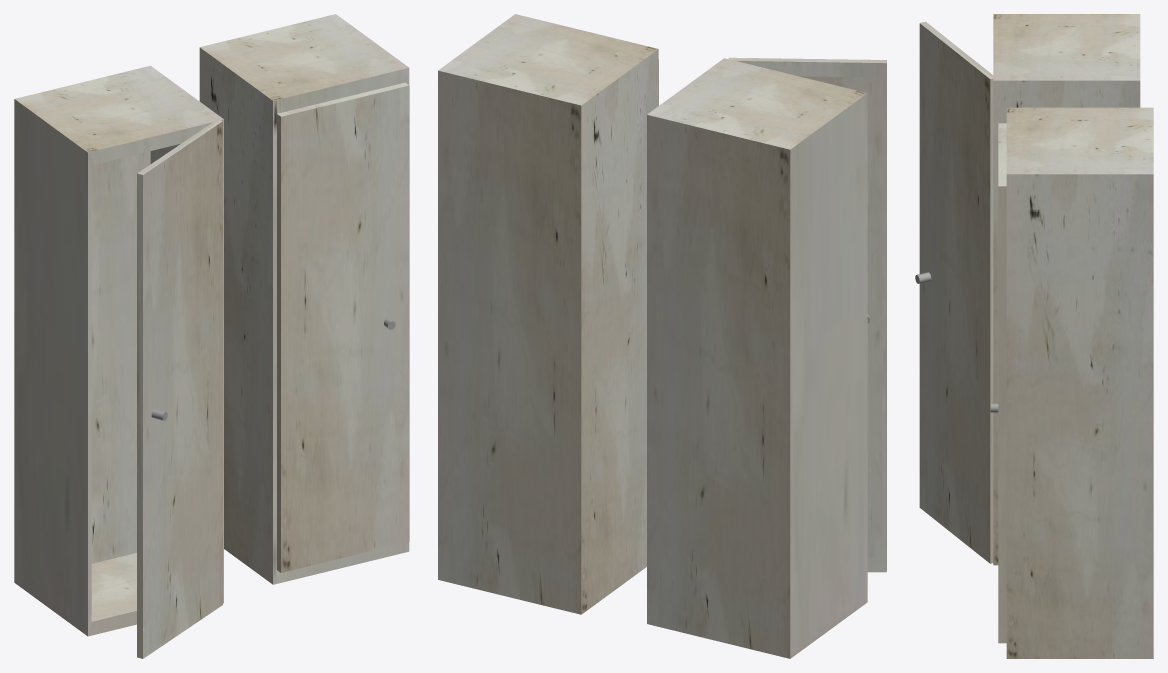
The model's file is armarios hospital.fbx.
3 views of the same model, side by side, from view 1: azimuth 30°, elevation 25°; view 2: azimuth 150°, elevation 25°; view 3: azimuth 270°, elevation 25° (orthographic). The views are drawn at different scales.
Parts seen in each view (by area): view 1: pCube418, pCube419, pCube420; view 2: pCube419, pCube418, pCube420; view 3: pCube418, pCube420, pCube419.
Part boxes in pixels (box(x1,y1,x2,y2)): pCube418: box(199, 14, 409, 584); pCube419: box(14, 65, 223, 636); pCube420: box(137, 120, 222, 658); pCube419: box(647, 58, 867, 658); pCube418: box(438, 14, 658, 614); pCube420: box(728, 57, 886, 572); pCube418: box(998, 107, 1153, 658); pCube420: box(919, 21, 995, 563); pCube419: box(993, 14, 1140, 565).
Bounding box in the file's own units: 8.27 × 11.66 × 5.2.
